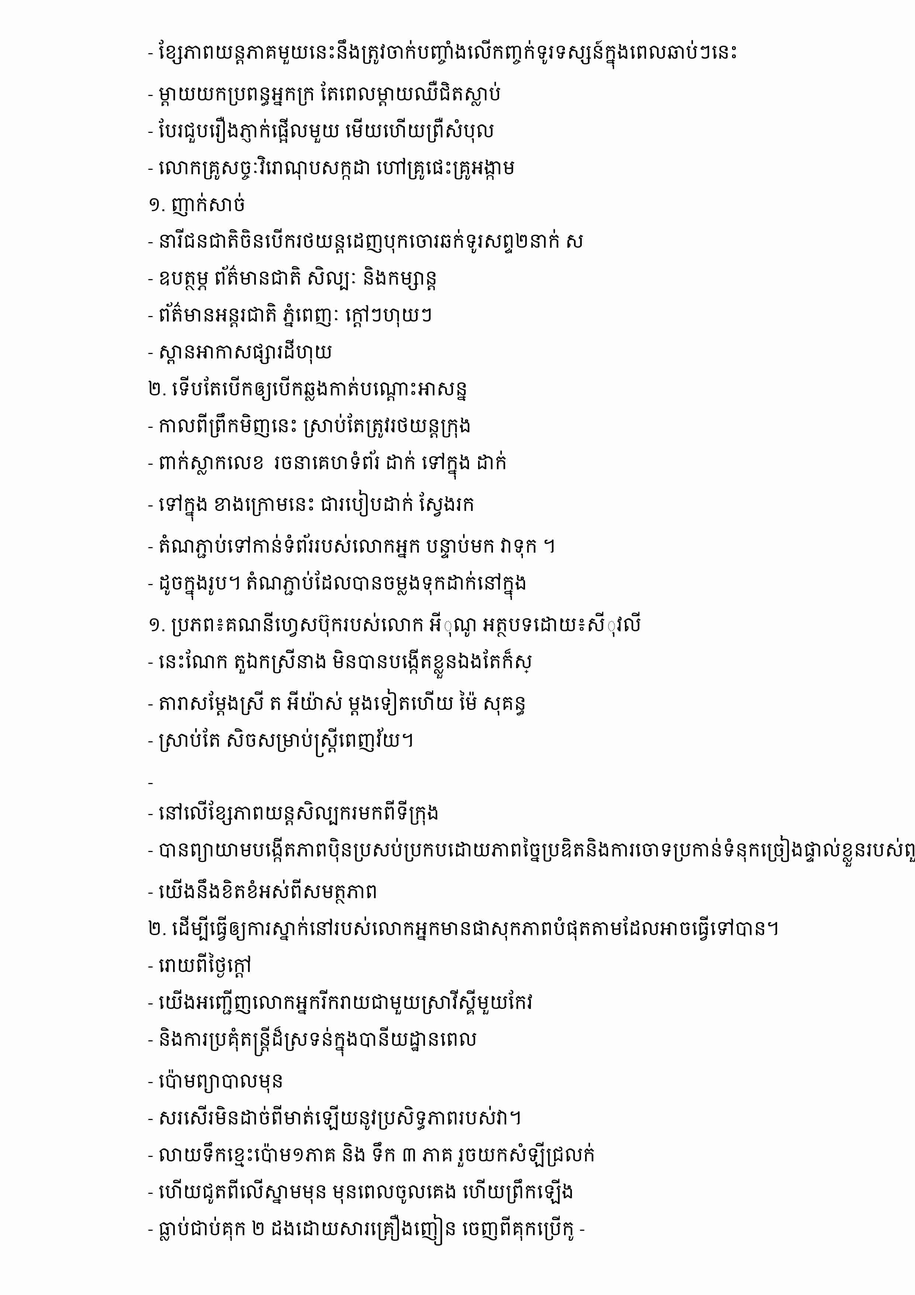text: (148, 835, 915, 867), (148, 39, 743, 69), (148, 916, 784, 941), (148, 1214, 590, 1246), (148, 612, 646, 637), (148, 649, 538, 679), (148, 570, 532, 600), (148, 228, 589, 254), (148, 1142, 601, 1167), (148, 450, 512, 480), (148, 1179, 579, 1204), (148, 688, 531, 716), (148, 533, 560, 559), (148, 490, 480, 522), (148, 1026, 482, 1057), (148, 989, 538, 1015), (148, 116, 500, 143), (148, 1105, 526, 1130), (148, 80, 506, 106), (148, 155, 520, 180), (148, 727, 419, 758), (148, 413, 476, 438), (148, 376, 473, 401), (148, 265, 443, 291), (148, 800, 445, 825), (148, 302, 438, 327), (148, 879, 383, 904), (148, 339, 338, 364), (148, 1069, 289, 1093), (148, 952, 257, 978), (148, 192, 251, 217), (148, 783, 158, 789)
